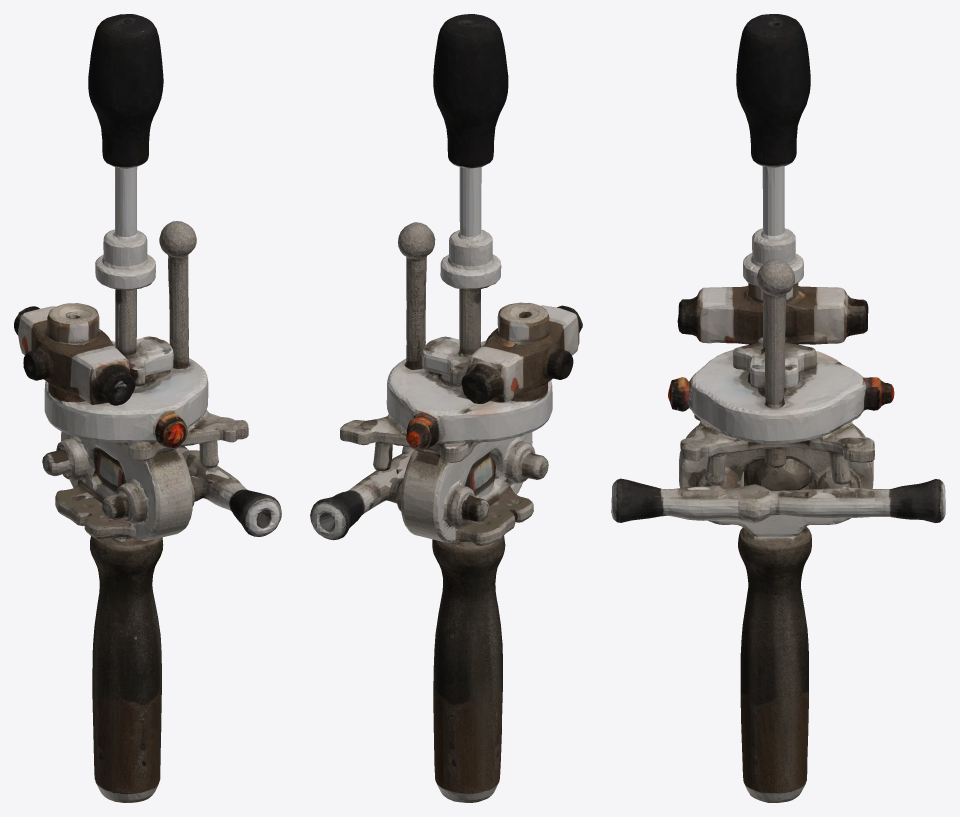
The model's file is tail (313).glb.
The picture shows the model from 3 angles, left to right: view 1: azimuth 30°, elevation 25°; view 2: azimuth 150°, elevation 25°; view 3: azimuth 270°, elevation 25°; orthographic projection.
Visible parts, largest first — view 1: Hy21_Mesh.obj; view 2: Hy21_Mesh.obj; view 3: Hy21_Mesh.obj.
Part boxes in pixels (x1,y1,x2,y2): Hy21_Mesh.obj: (14, 14, 281, 802); Hy21_Mesh.obj: (310, 14, 582, 802); Hy21_Mesh.obj: (611, 14, 945, 802).
Bounding box in the file's own units: 0.4754 × 1.96 × 0.7661.
Materials: 1 (1 with a texture image).
